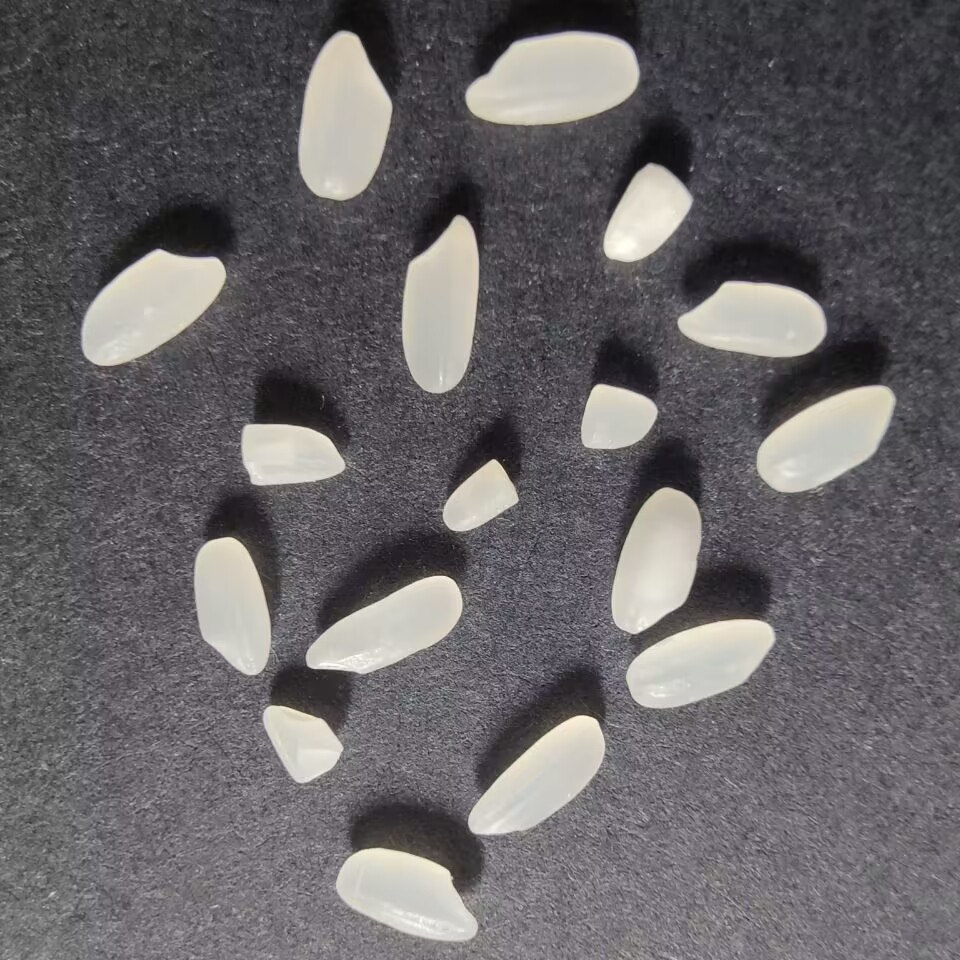broken: (597, 156, 700, 263), (235, 414, 349, 494), (254, 699, 349, 789), (436, 452, 525, 537), (575, 376, 664, 453)
rice: (461, 711, 612, 840), (76, 244, 229, 368), (296, 24, 399, 208), (459, 29, 642, 132), (302, 569, 470, 680), (395, 208, 484, 403), (752, 379, 900, 496), (326, 845, 485, 948), (605, 482, 708, 637), (621, 615, 782, 713), (671, 276, 832, 359), (192, 531, 275, 685)
